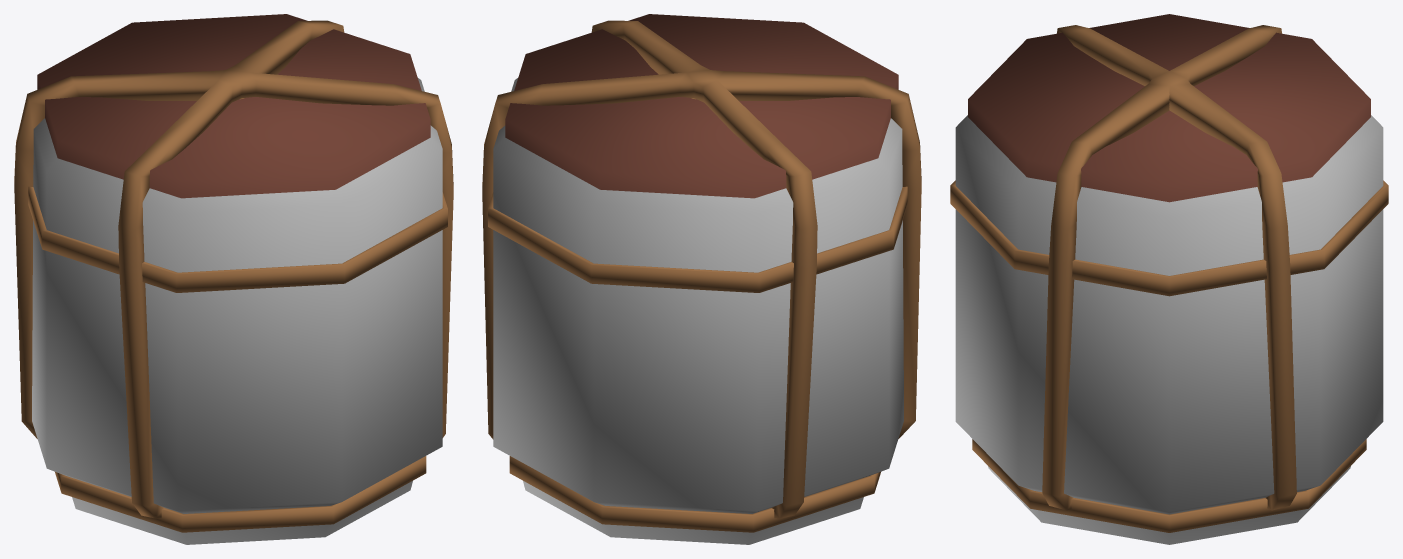
The model's file is Barril_Sake.fbx.
3 renders of one model, left to right at view 1: azimuth 30°, elevation 25°; view 2: azimuth 150°, elevation 25°; view 3: azimuth 270°, elevation 25°, orthographic.
Visible parts, largest first — view 1: Barril_Sake; view 2: Barril_Sake; view 3: Barril_Sake.
Boxes of the visible parts, left/top/right/bottom form: Barril_Sake: left=14, top=14, right=453, bottom=544; Barril_Sake: left=482, top=14, right=921, bottom=544; Barril_Sake: left=950, top=14, right=1388, bottom=544.
Size of the model in its own units: 0.7002 by 0.7002 by 0.6877.
